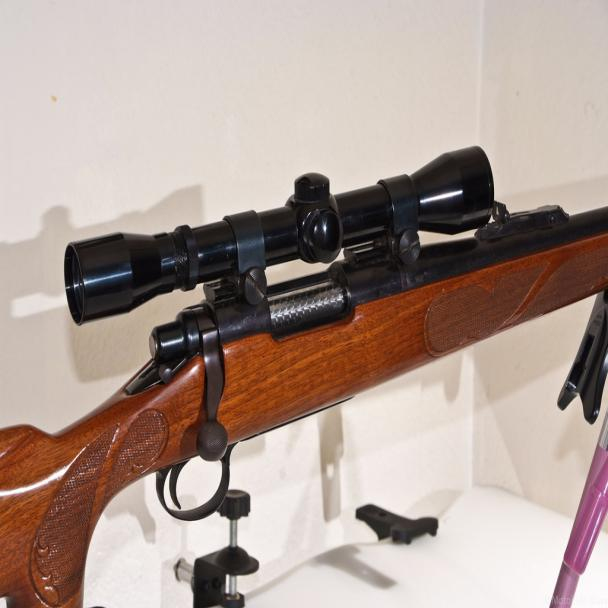Gun: (0, 136, 607, 607)
